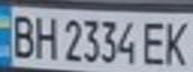2: (60, 15, 84, 62)
3: (78, 16, 103, 64), (100, 16, 121, 65)
4: (115, 17, 142, 66)
B: (6, 10, 39, 60)
E: (139, 17, 172, 66)
H: (30, 11, 60, 61)
K: (160, 17, 193, 68)
